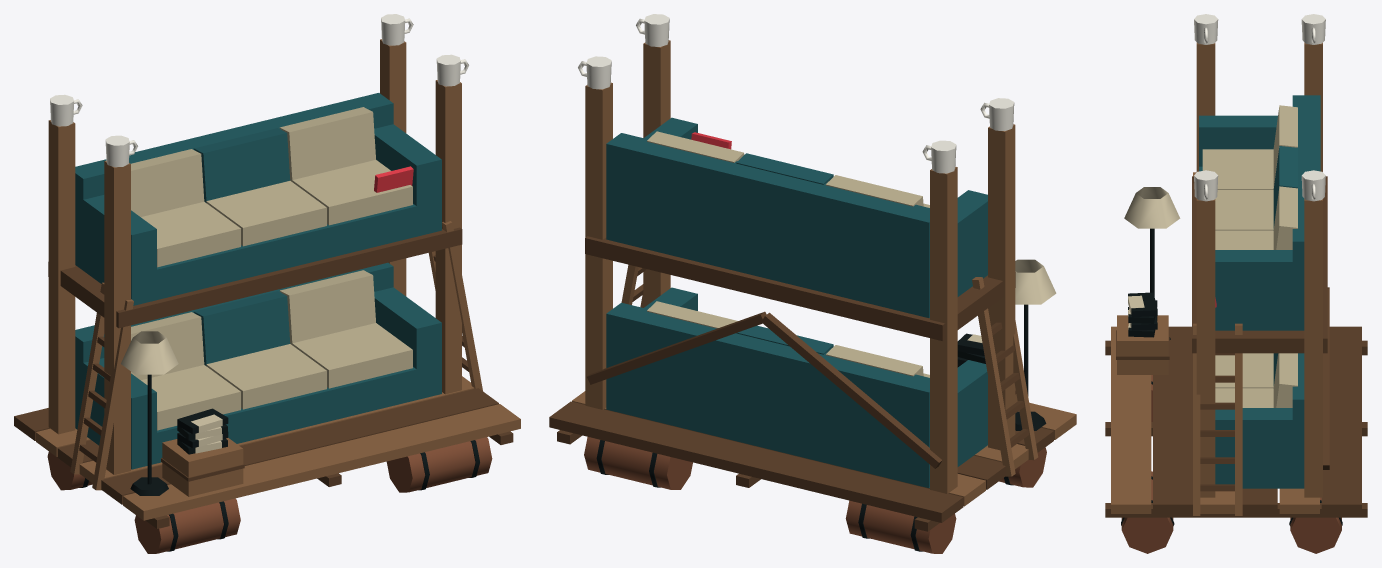
The model's file is double-decker-couch.glb.
3 views of the same model, side by side, from view 1: azimuth 30°, elevation 25°; view 2: azimuth 150°, elevation 25°; view 3: azimuth 270°, elevation 25° (orthographic). The views are drawn at different scales.
Parts seen in each view (by area): view 1: Sofa (×2), Deck, DoubleDeckerCouch, TapesAndLamp, Ladder (×2), Mug (×4), Tape; view 2: Sofa (×2), Deck, DoubleDeckerCouch, Ladder (×2), Mug (×4), TapesAndLamp; view 3: Deck, Sofa (×2), TapesAndLamp, Ladder, DoubleDeckerCouch, Mug (×4), Tape.
Part boxes in pixels (<box>): Sofa (×2): <box>75,93,441,469</box>; Deck: <box>14,39,520,528</box>; DoubleDeckerCouch: <box>47,437,492,553</box>; TapesAndLamp: <box>121,331,244,496</box>; Ladder (×2): <box>70,221,482,490</box>; Mug (×4): <box>50,14,468,167</box>; Tape: <box>177,408,228,434</box>; Sofa (×2): <box>606,117,987,488</box>; Deck: <box>549,40,1076,531</box>; DoubleDeckerCouch: <box>584,437,1046,553</box>; Ladder (×2): <box>621,264,1038,476</box>; Mug (×4): <box>578,14,1014,173</box>; TapesAndLamp: <box>1015,259,1056,430</box>; Deck: <box>1105,42,1367,517</box>; Sofa (×2): <box>1199,95,1320,488</box>; TapesAndLamp: <box>1116,187,1180,374</box>; Ladder: <box>1193,323,1242,515</box>; DoubleDeckerCouch: <box>1121,375,1342,553</box>; Mug (×4): <box>1194,14,1325,201</box>; Tape: <box>1128,292,1157,317</box>.
Bounding box in the file's own units: 9.26 × 8.94 × 5.6.
